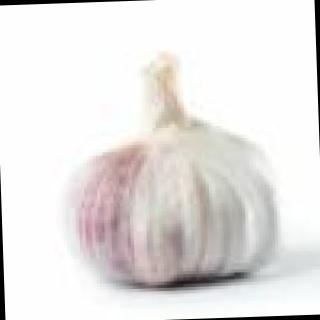Bawang Putih: (64, 39, 290, 293)
